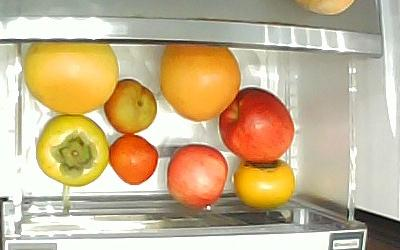apple: (219, 87, 295, 163), (167, 144, 228, 208)
grapefruit: (23, 43, 119, 114), (159, 45, 241, 121)
persimmon: (35, 115, 109, 187), (233, 159, 295, 210)
prune: (104, 78, 157, 133), (109, 134, 159, 186)
